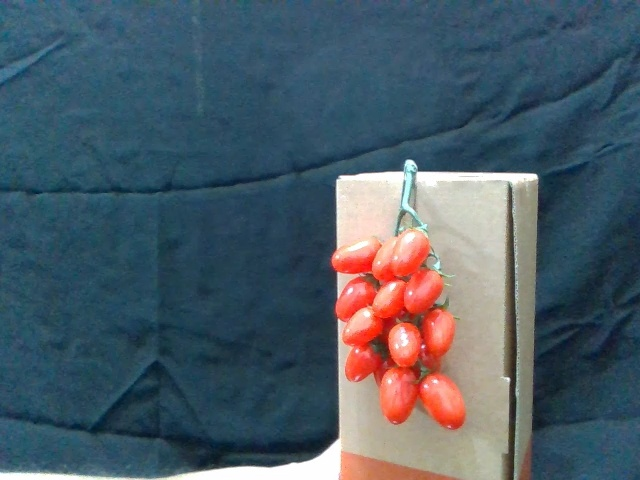tomato: (418, 374, 468, 432), (380, 368, 419, 426), (386, 319, 425, 373), (333, 277, 379, 321), (393, 229, 433, 279), (331, 238, 381, 276), (422, 306, 457, 358), (407, 269, 444, 315), (345, 307, 384, 349), (372, 281, 409, 325), (344, 345, 382, 383)
